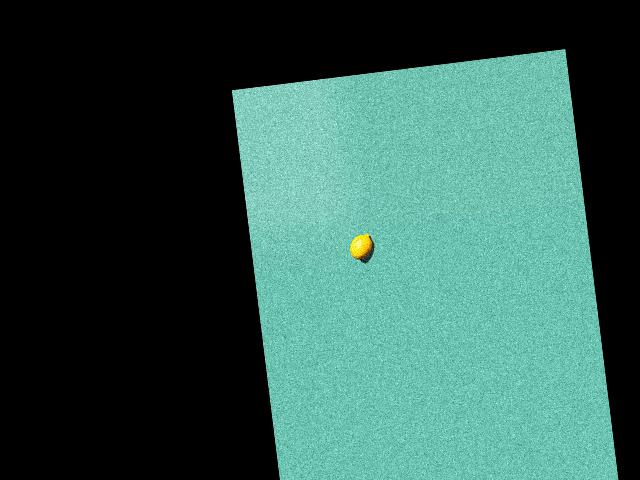lemon: (348, 230, 378, 267)
